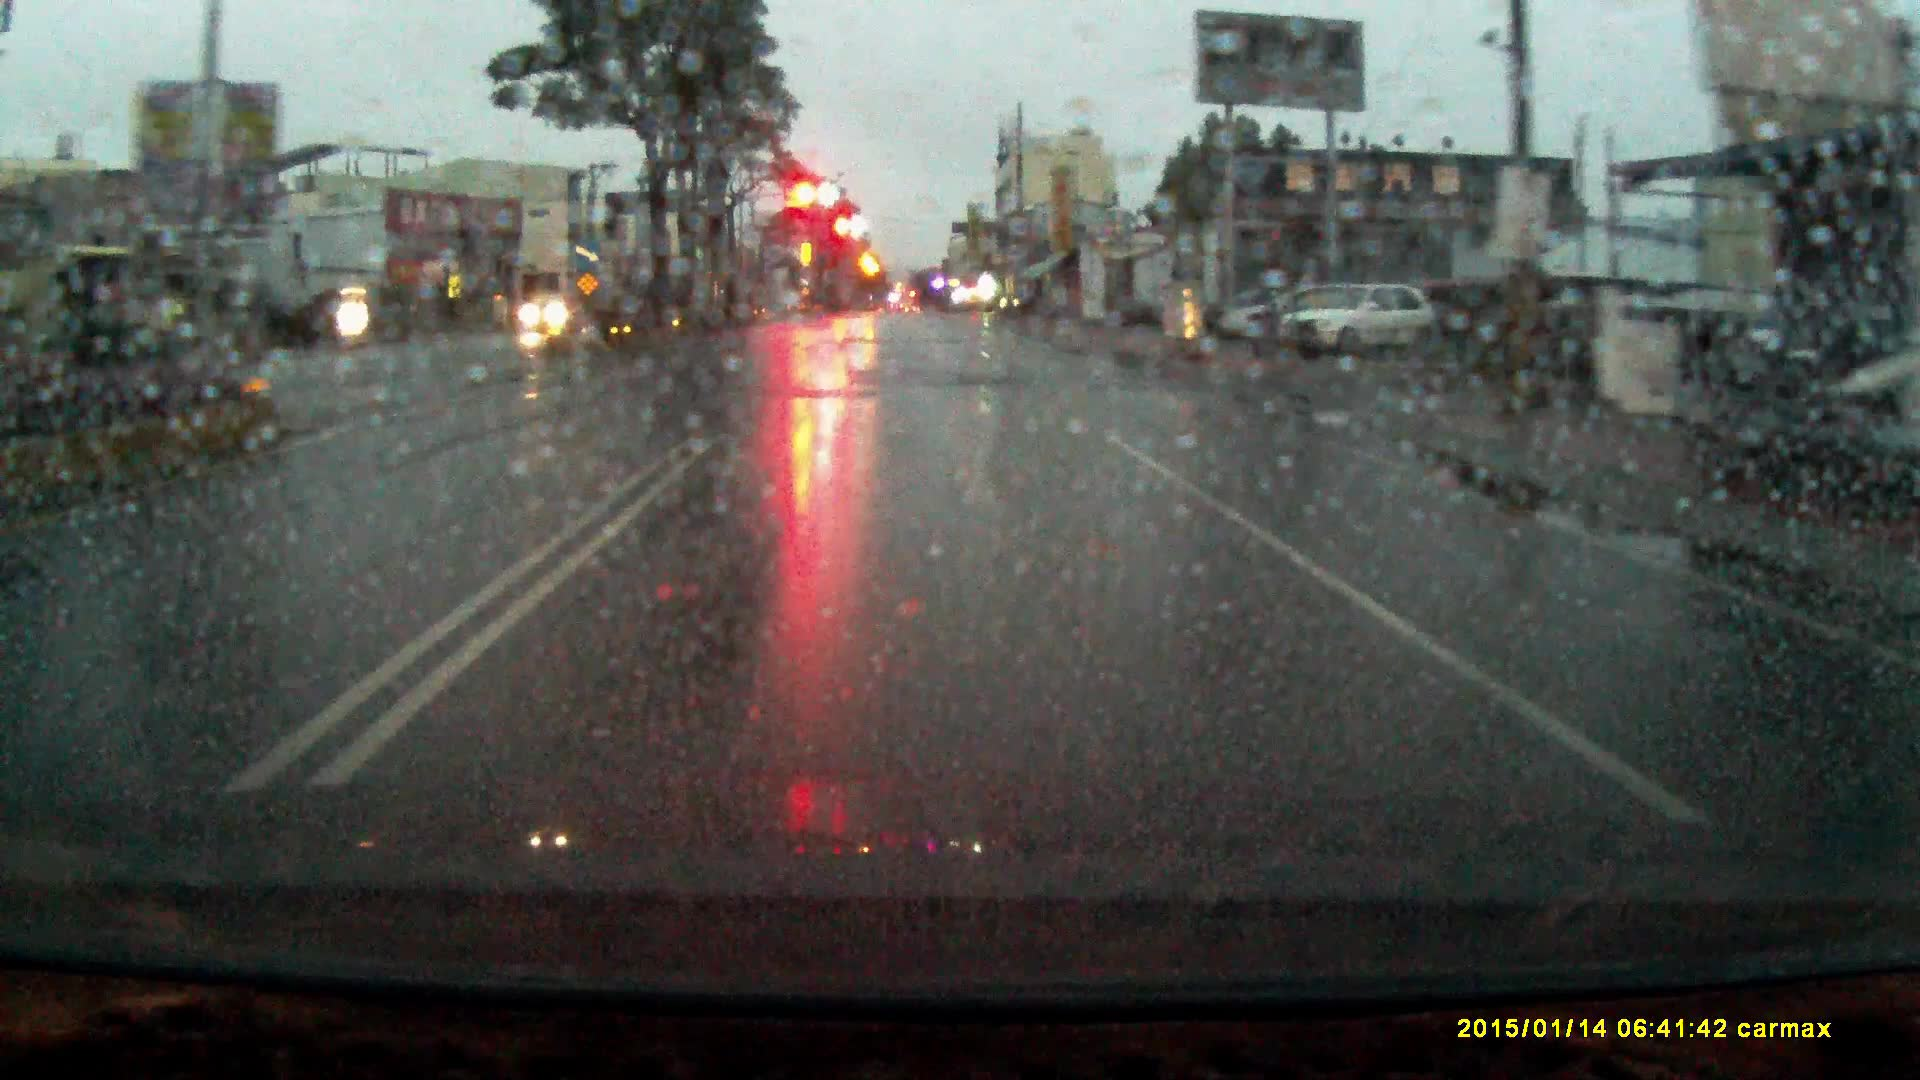vehicle: (1275, 284, 1444, 357), (1246, 280, 1379, 349), (524, 295, 592, 335), (1000, 284, 1050, 319)
